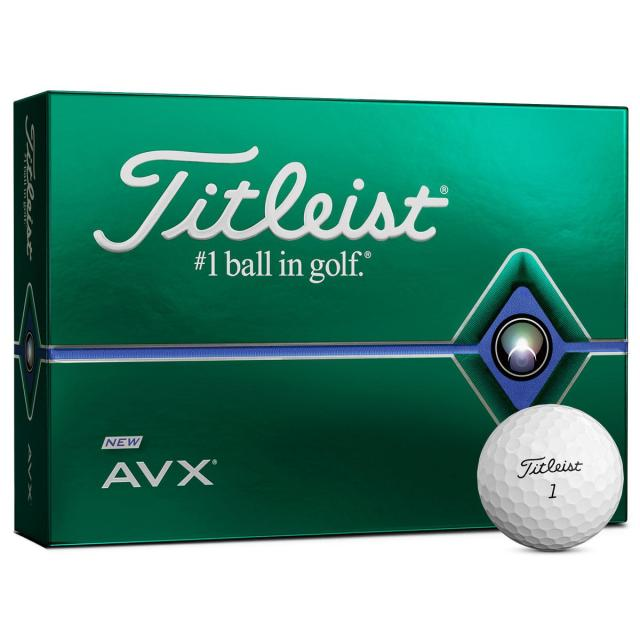ball: (472, 401, 630, 555)
